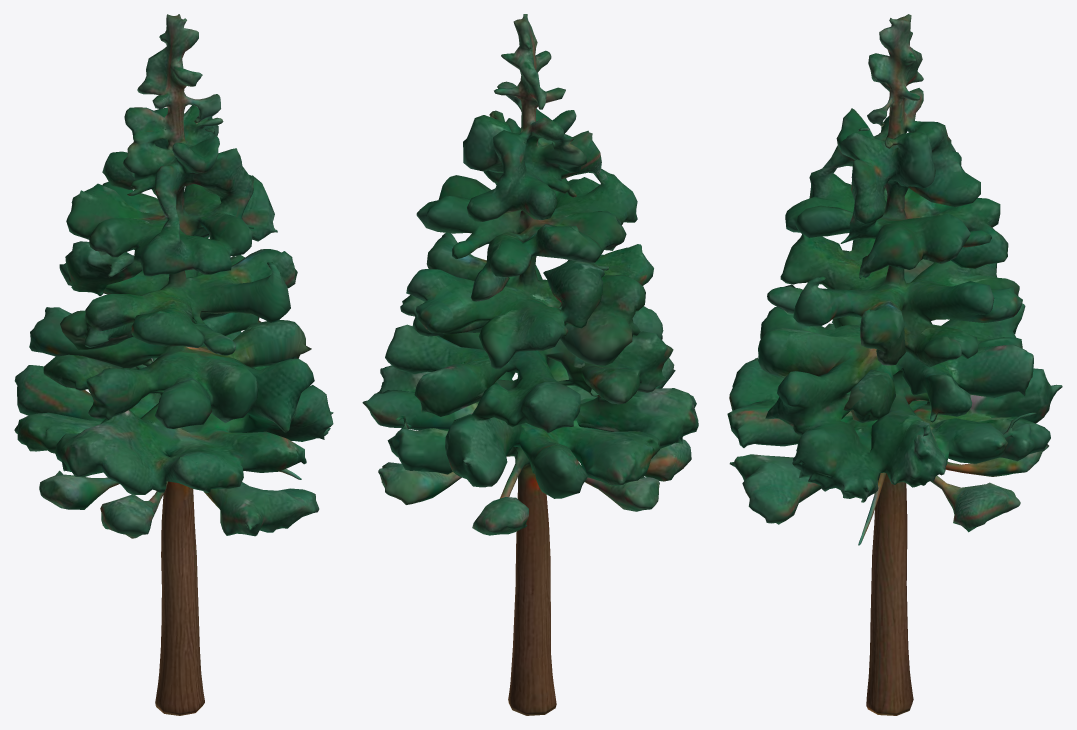
The model's file is pine-tree.glb.
3 views of the same model, side by side, from view 1: azimuth 30°, elevation 25°; view 2: azimuth 150°, elevation 25°; view 3: azimuth 270°, elevation 25° (orthographic).
Parts seen in each view (by area): view 1: Retopo_neural_node_25bf4abb-f02b-416b-ab8a-154344c115ff; view 2: Retopo_neural_node_25bf4abb-f02b-416b-ab8a-154344c115ff; view 3: Retopo_neural_node_25bf4abb-f02b-416b-ab8a-154344c115ff.
Part boxes in pixels (x1,y1,x2,y2): Retopo_neural_node_25bf4abb-f02b-416b-ab8a-154344c115ff: [14, 14, 333, 715]; Retopo_neural_node_25bf4abb-f02b-416b-ab8a-154344c115ff: [362, 14, 698, 715]; Retopo_neural_node_25bf4abb-f02b-416b-ab8a-154344c115ff: [727, 14, 1062, 715].
Bounding box in the file's own units: 0.3952 × 0.9365 × 0.4114.
1 material, 1 textured.
